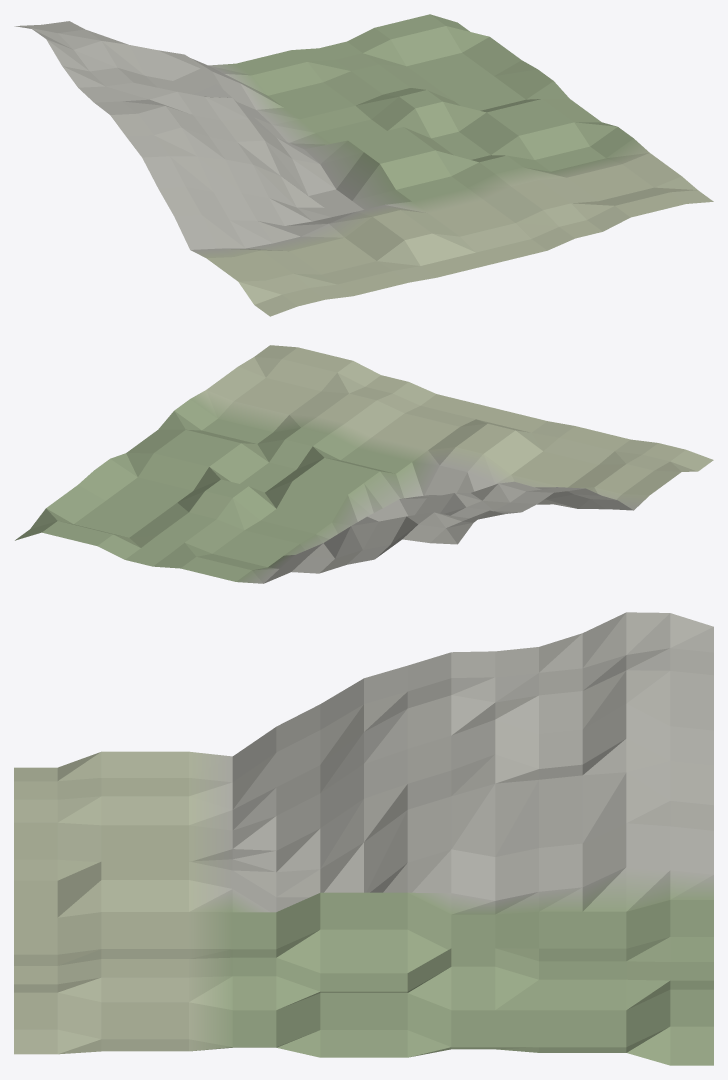
3 views of the same model, one above another, from view 1: azimuth 30°, elevation 25°; view 2: azimuth 150°, elevation 25°; view 3: azimuth 270°, elevation 25° (orthographic). The views are drawn at different scales.
Bounding box in the file's own units: 32 × 8.78 × 32.
